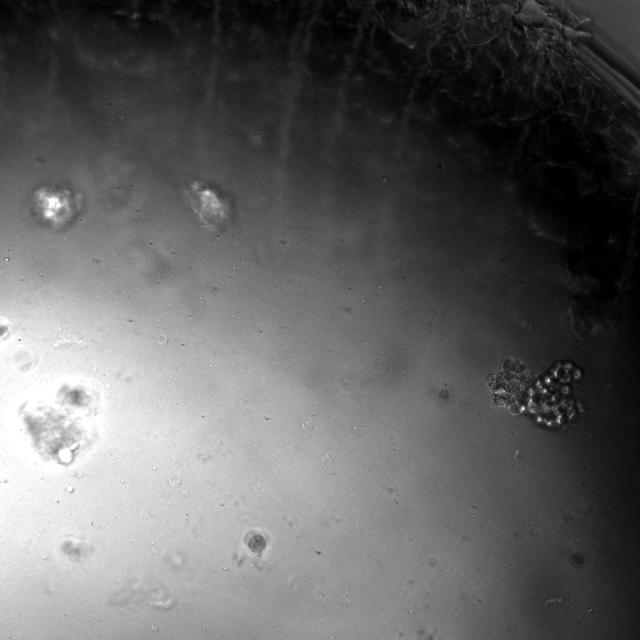organoid: (487, 358, 584, 430), (18, 382, 98, 465), (182, 180, 236, 234), (29, 183, 83, 230), (243, 528, 269, 558), (568, 550, 589, 570), (0, 321, 10, 340)
